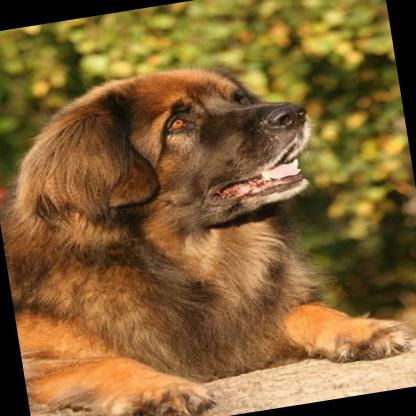Leonberg: (0, 33, 416, 416)
